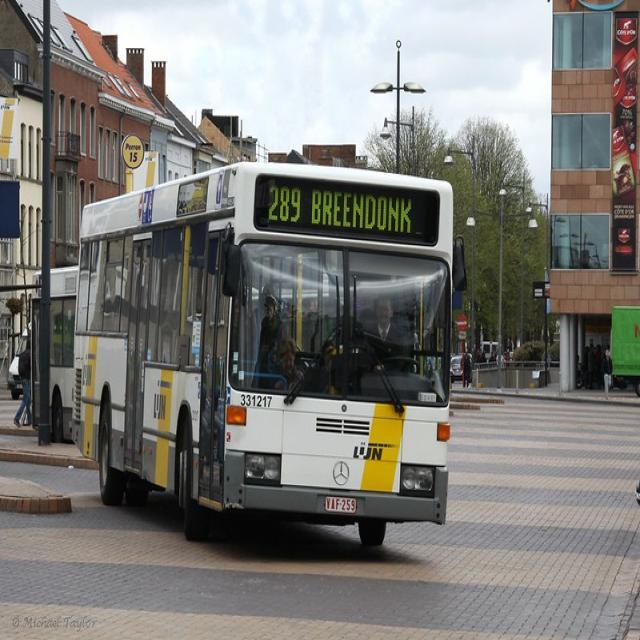bus-number: (267, 183, 301, 225)
